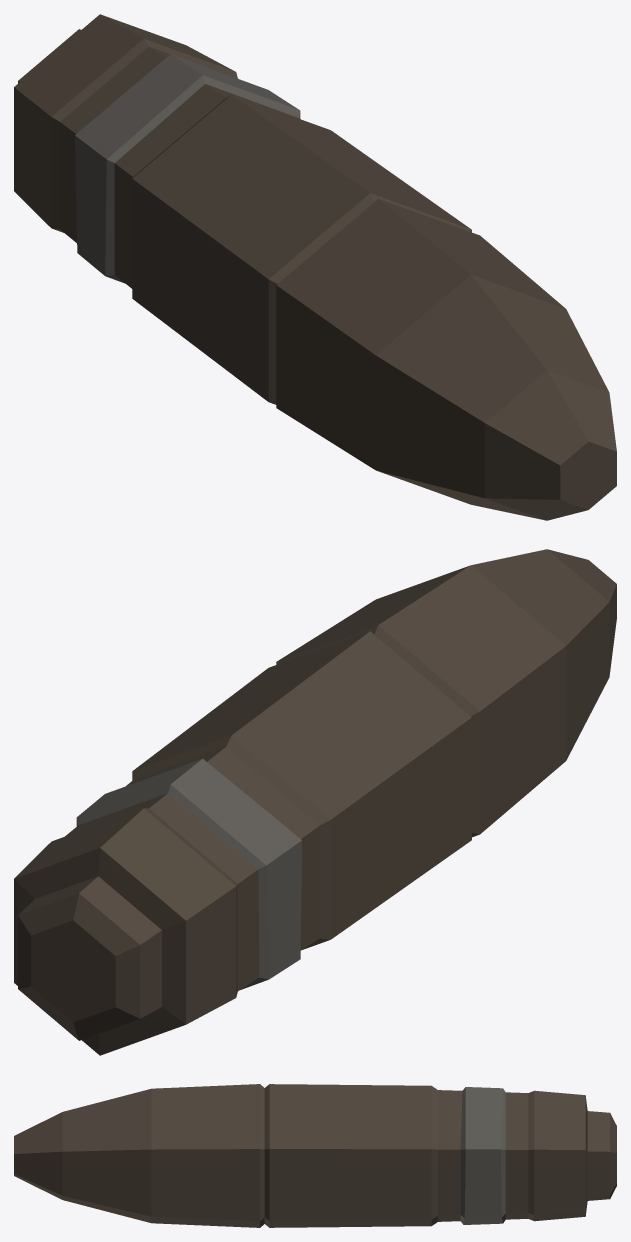
File: SM_Prop_IED_03.fbx
3 renders of one model, top to bottom at view 1: azimuth 30°, elevation 25°; view 2: azimuth 150°, elevation 25°; view 3: azimuth 270°, elevation 25°, orthographic. The views are drawn at different scales.
Parts seen in each view (by area): view 1: SM_Prop_IED_03; view 2: SM_Prop_IED_03; view 3: SM_Prop_IED_03.
Boxes of the visible parts, <box> form: SM_Prop_IED_03: <box>14,14,616,520</box>; SM_Prop_IED_03: <box>14,549,616,1055</box>; SM_Prop_IED_03: <box>14,1084,616,1227</box>.
Size of the model in its own units: 14.46 by 16.7 by 63.39.
